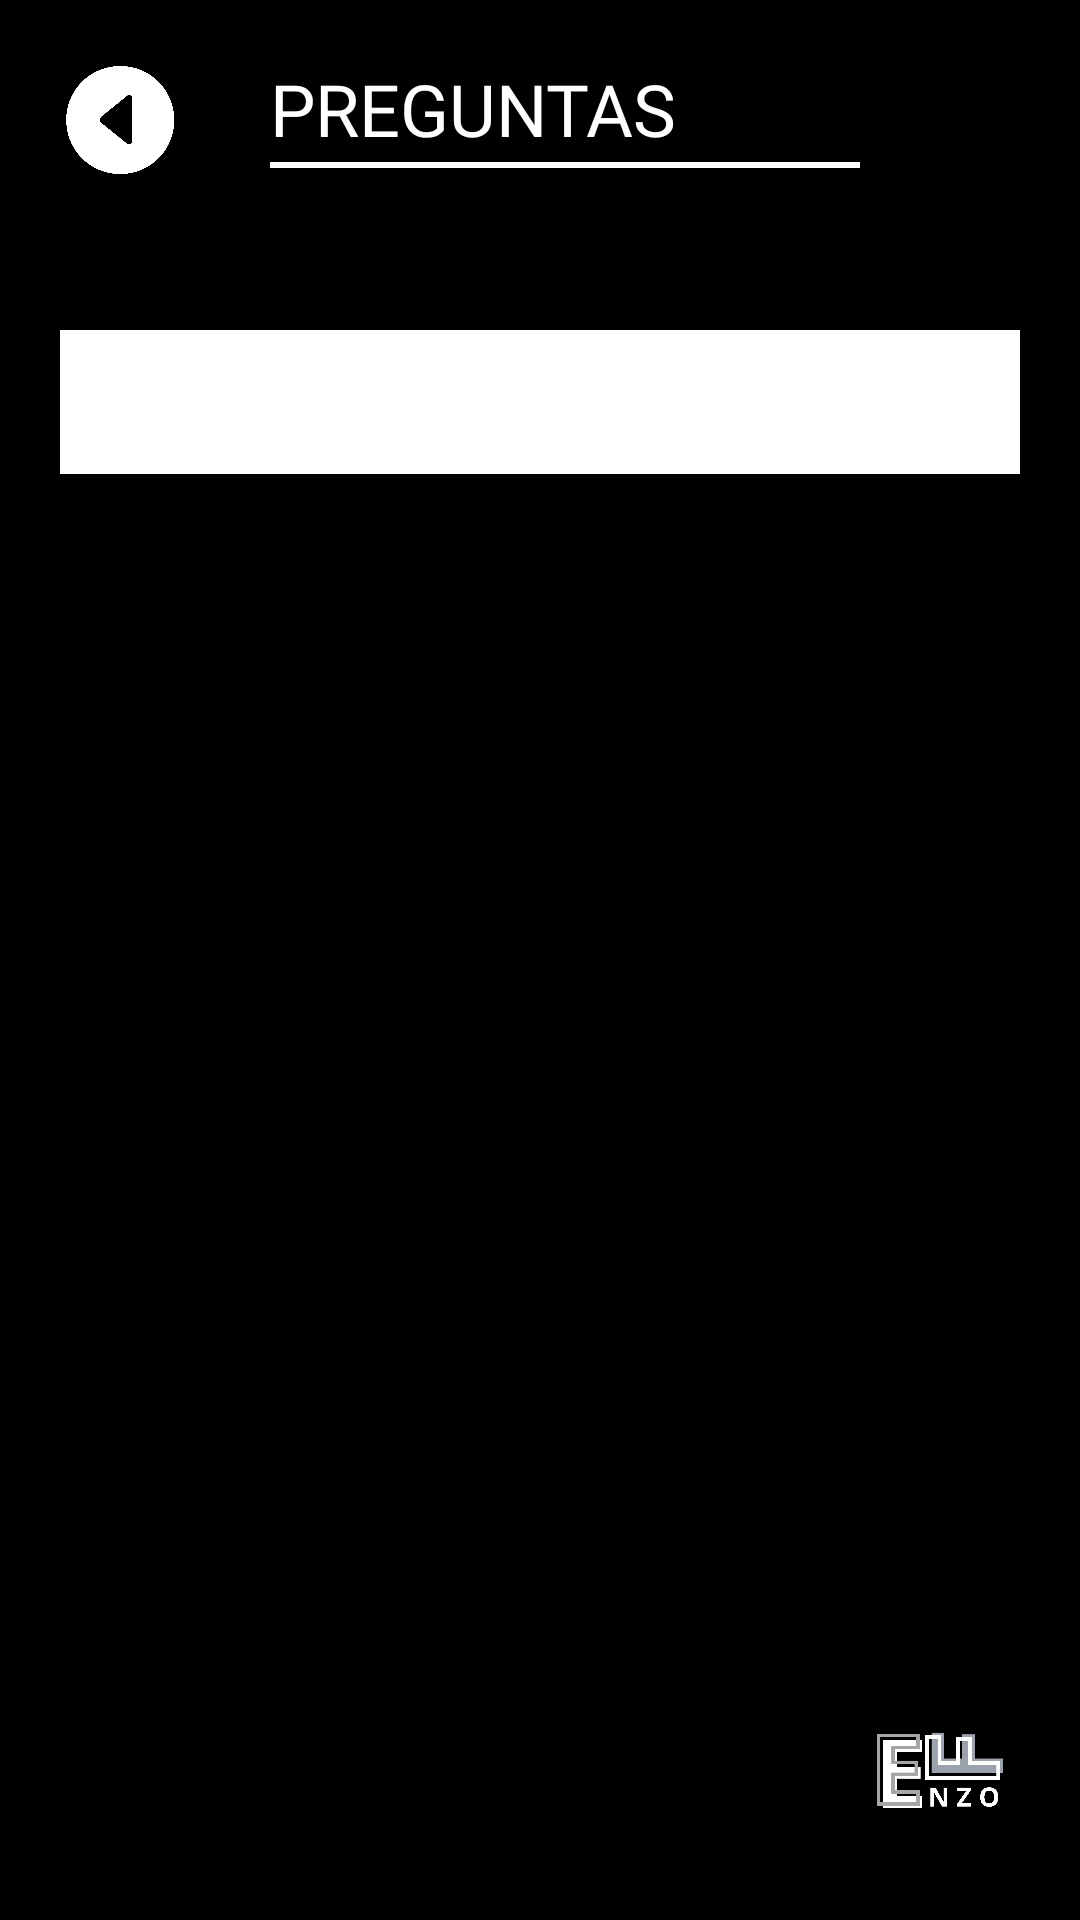

Named icons in this screenshot (1080 x 1920) and their bounding boxes, region(x1, y1, x2, y2):
Boton atras: region(66, 66, 174, 174)
